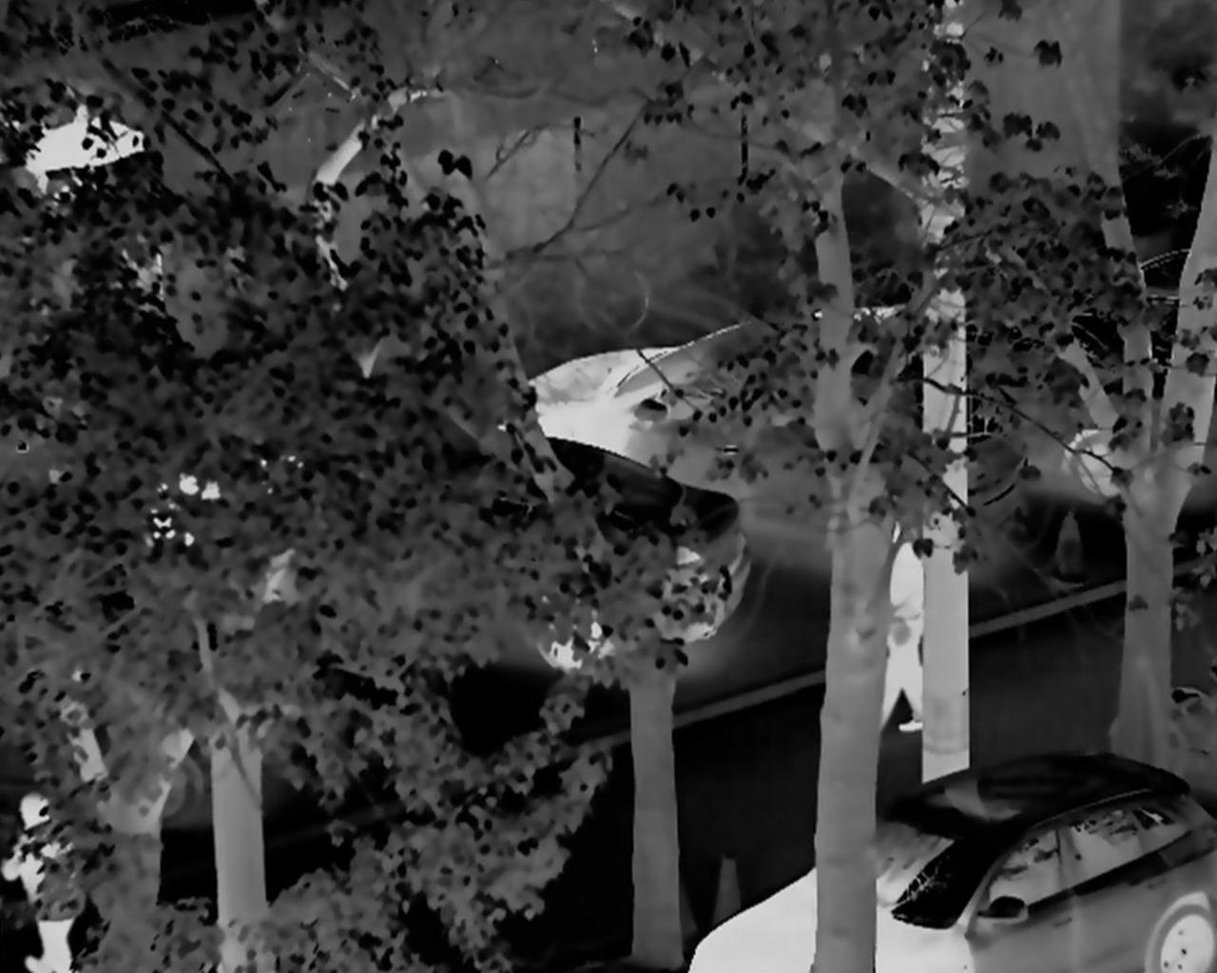person: (7, 798, 85, 973), (868, 522, 933, 731)
